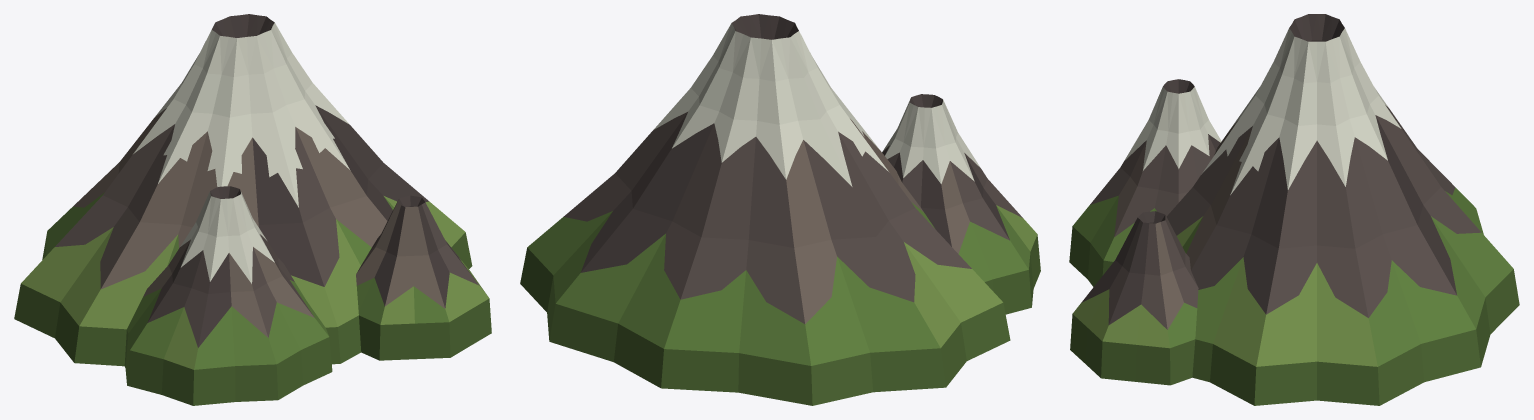
File: volcano_cluster.glb
3 views of the same model, side by side, from view 1: azimuth 30°, elevation 25°; view 2: azimuth 150°, elevation 25°; view 3: azimuth 270°, elevation 25° (orthographic). The views are drawn at different scales.
Visible parts, largest first — view 1: volcano_cluster; view 2: volcano_cluster; view 3: volcano_cluster.
Part boxes in pixels (x1,y1,x2,y2): volcano_cluster: [14, 14, 491, 405]; volcano_cluster: [520, 14, 1040, 405]; volcano_cluster: [1069, 14, 1519, 405].
Bounding box in the file's own units: 1.8 × 1.15 × 1.69.
